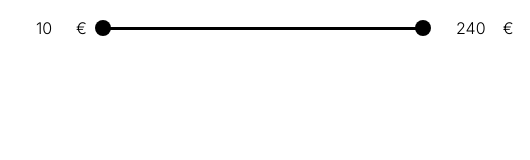
Test: Range component in excercise 1 › Moves left dot
The image size is (530, 160).
Step 1. Press the mouse on the button with test id "left-dot" → (103,28), box [95,20,111,36]
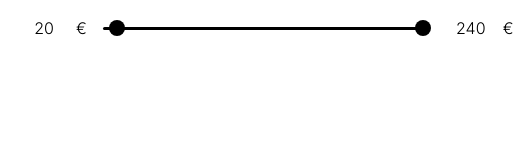
Check: the number field with test id "input-left" holds "20", box [12,16,76,40]
Step 2. Press the mouse on the button with test id "left-dot" → (117,28), box [109,20,125,36]
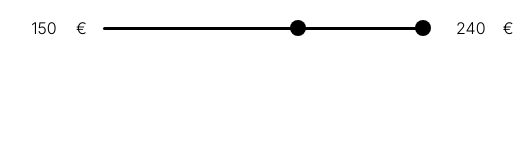
Check: the number field with test id "input-left" holds "150", box [12,16,76,40]
